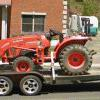Tractor: (5, 22, 90, 82)
